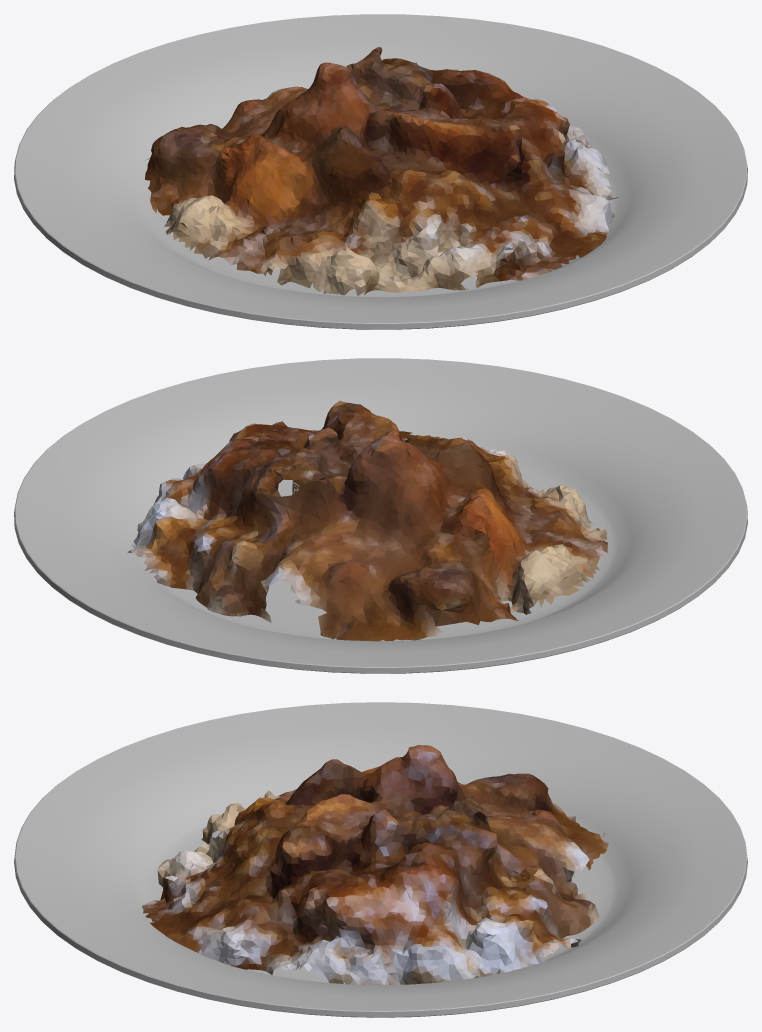
File: CURRY (1).fbx
3 renders of one model, top to bottom at view 1: azimuth 30°, elevation 25°; view 2: azimuth 150°, elevation 25°; view 3: azimuth 270°, elevation 25°, orthographic.
Parts seen in each view (by area): view 1: plate_plate_0, high; view 2: plate_plate_0, high; view 3: plate_plate_0, high.
Part boxes in pixels (x1,y1,x2,y2): plate_plate_0: [14, 14, 747, 329]; high: [145, 47, 618, 295]; plate_plate_0: [14, 358, 747, 673]; high: [127, 400, 607, 641]; plate_plate_0: [14, 702, 747, 1017]; high: [142, 745, 608, 985].
Bounding box in the file's own units: 7701 × 1669 × 7701.
